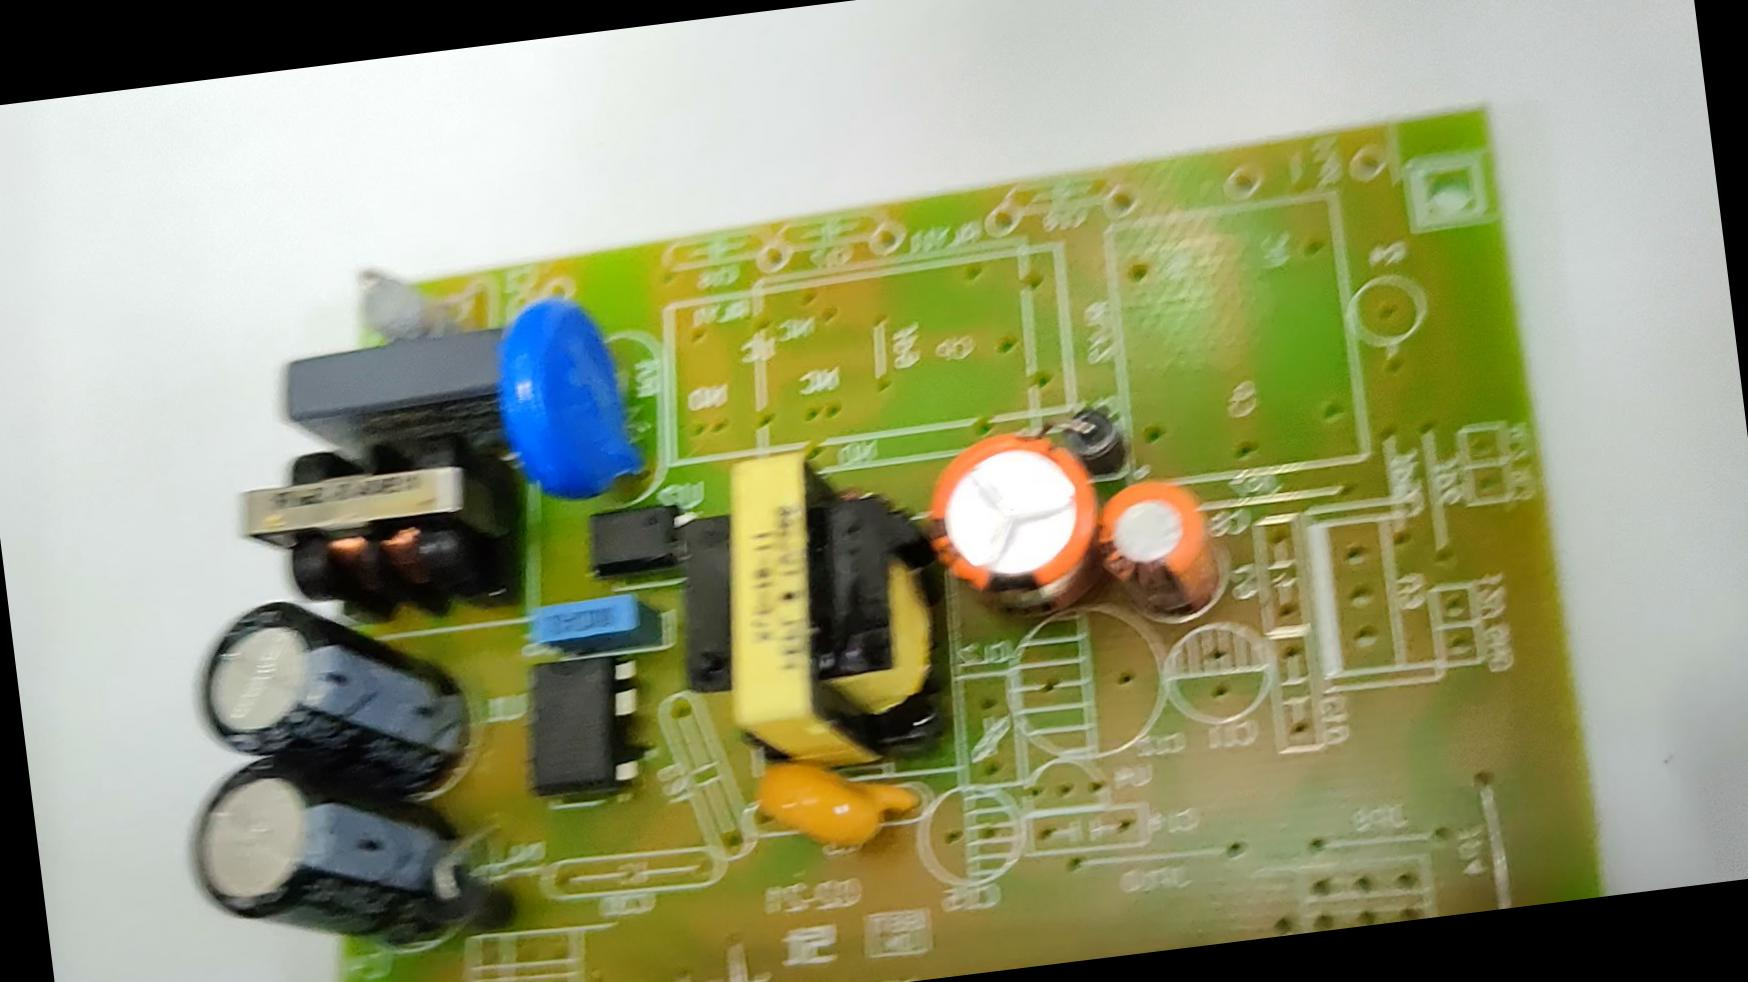Cap1: (916, 414, 1118, 651)
Cap2: (1092, 463, 1232, 636)
Cap3: (172, 567, 490, 820)
Cap4: (168, 732, 495, 960)
MOSFET: (509, 629, 663, 808)
Mov: (486, 276, 655, 515)
Resistor: (348, 262, 445, 345)
Transformer: (649, 431, 965, 791), (220, 412, 559, 655)
